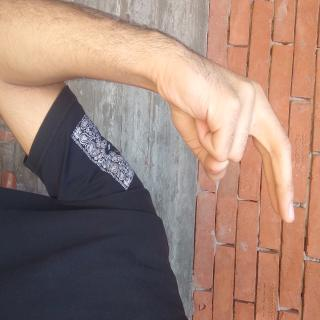ZAY: (14, 23, 172, 235)
